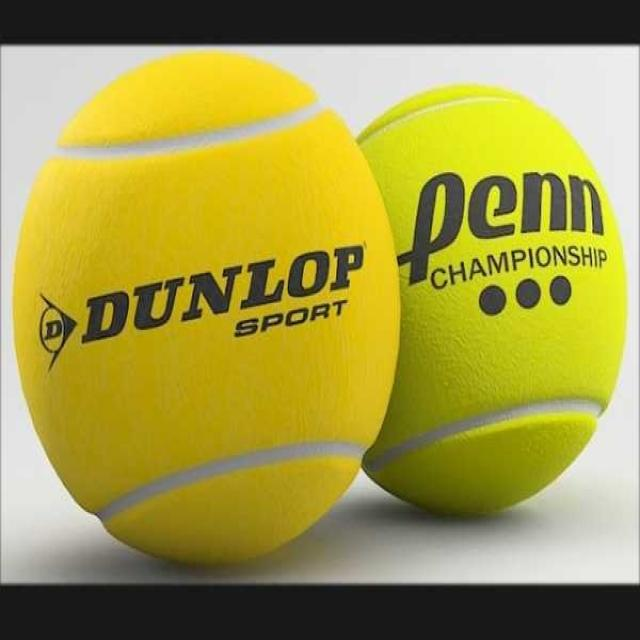Tennis_Ball: (13, 55, 399, 568), (354, 92, 636, 518)
